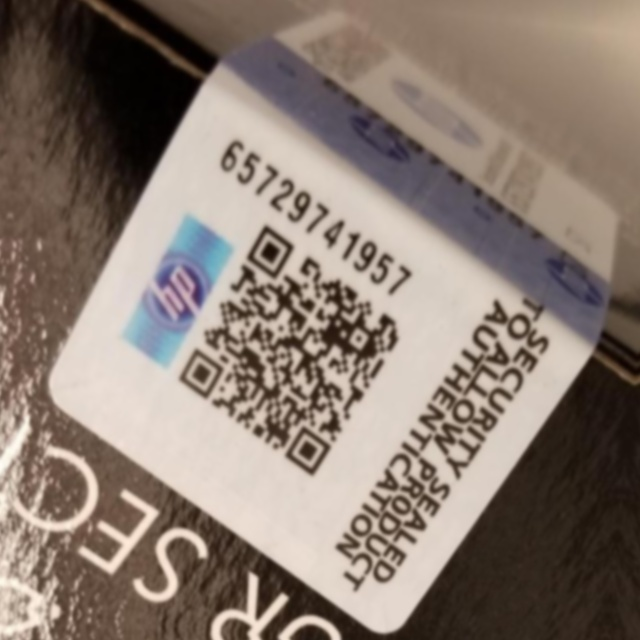qr-code: (162, 206, 419, 495)
